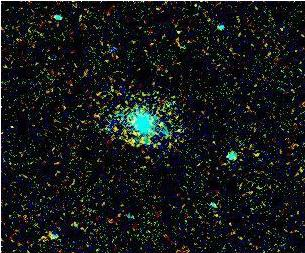star: (0, 113, 27, 143)
